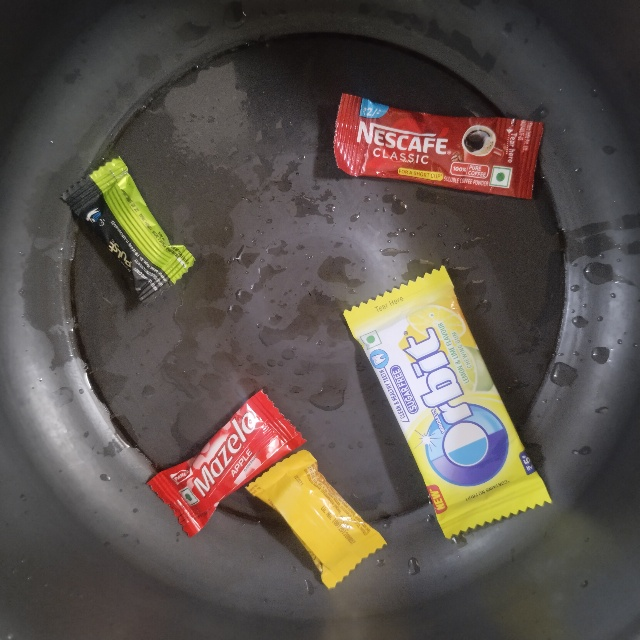Alpenlibe Creamfills: (306, 443, 435, 518)
Mazelo: (141, 482, 301, 554)
Nescafe Coffee: (335, 99, 541, 174)
Orbit: (341, 314, 455, 571)
Pulse: (117, 154, 259, 230)
